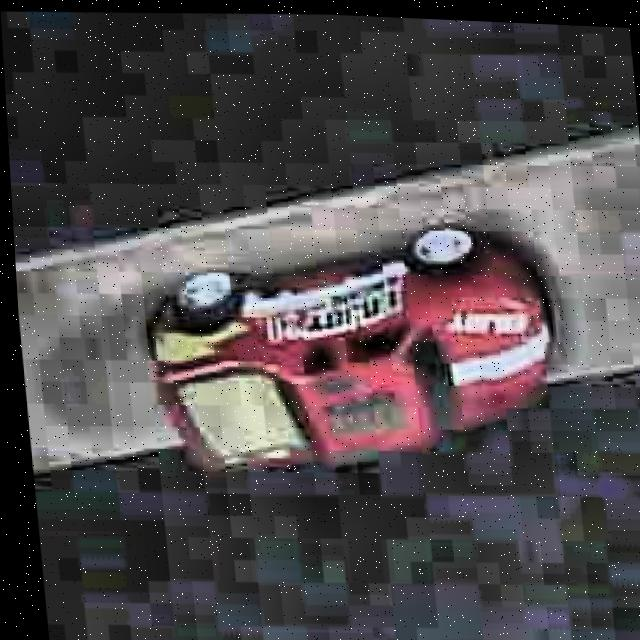car: (133, 205, 572, 496)
